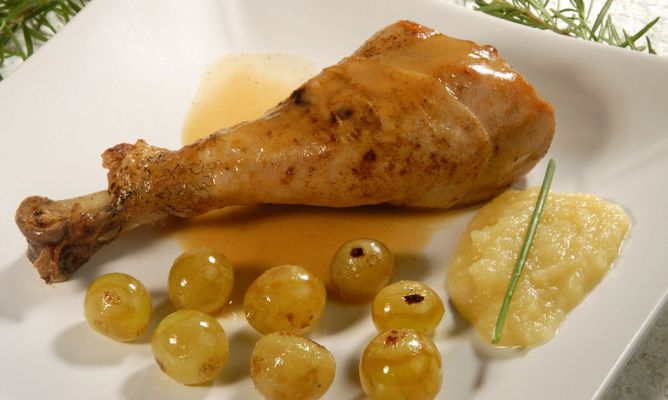Green grapes: (345, 324, 448, 400), (234, 255, 334, 331), (149, 307, 234, 386), (245, 327, 336, 400), (82, 265, 155, 348), (162, 249, 241, 316), (319, 234, 394, 303), (365, 281, 451, 340)
